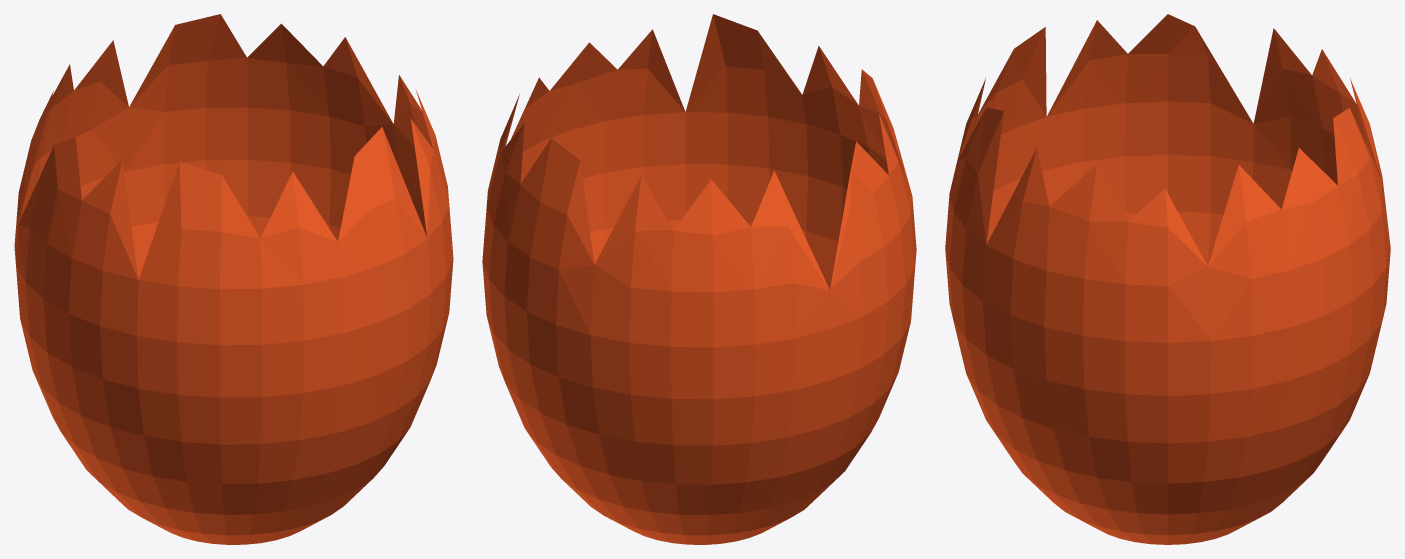
The model's file is countryEgg.dae.
The picture shows the model from 3 angles, left to right: view 1: azimuth 30°, elevation 25°; view 2: azimuth 150°, elevation 25°; view 3: azimuth 270°, elevation 25°; orthographic projection. The views are drawn at different scales.
Parts seen in each view (by area): view 1: countryEgg; view 2: countryEgg; view 3: countryEgg.
Boxes of the visible parts, left/top/right/bottom form: countryEgg: left=14, top=14, right=453, bottom=544; countryEgg: left=482, top=14, right=916, bottom=544; countryEgg: left=945, top=14, right=1390, bottom=544.
Size of the model in its own units: 1.28 by 1.43 by 1.28.
